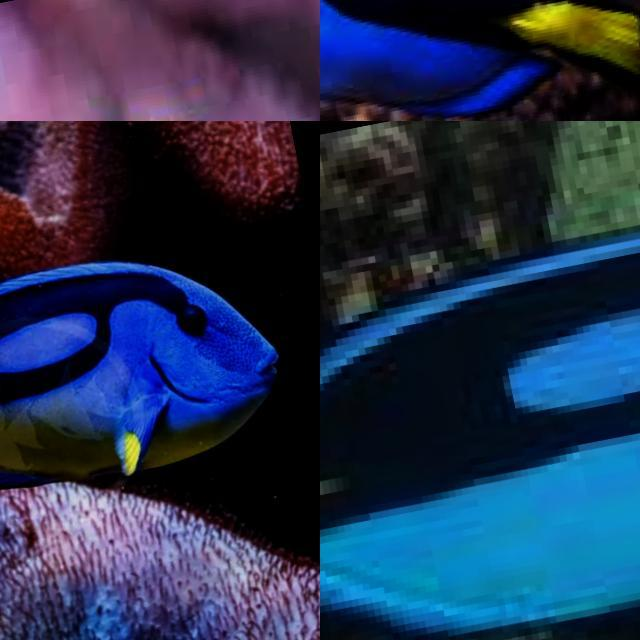BlueTang: (320, 227, 640, 640), (0, 259, 277, 491), (320, 2, 640, 123)
